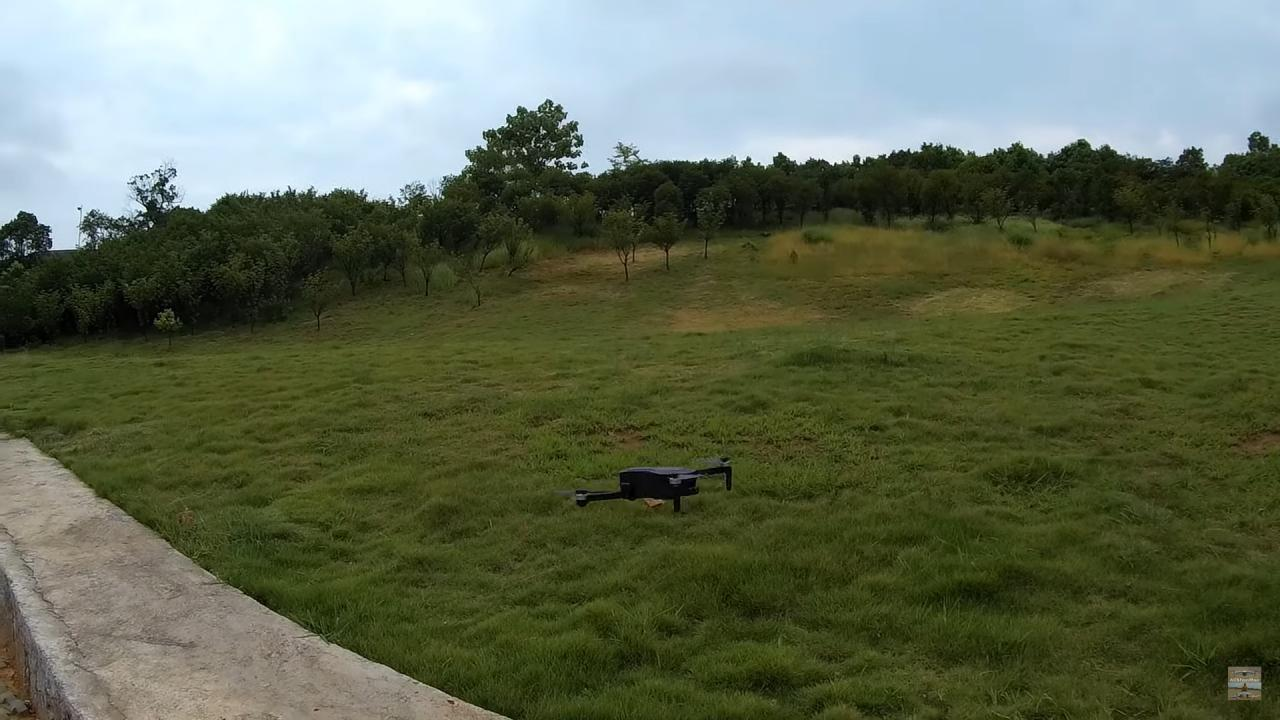Drone: (558, 446, 759, 523)
